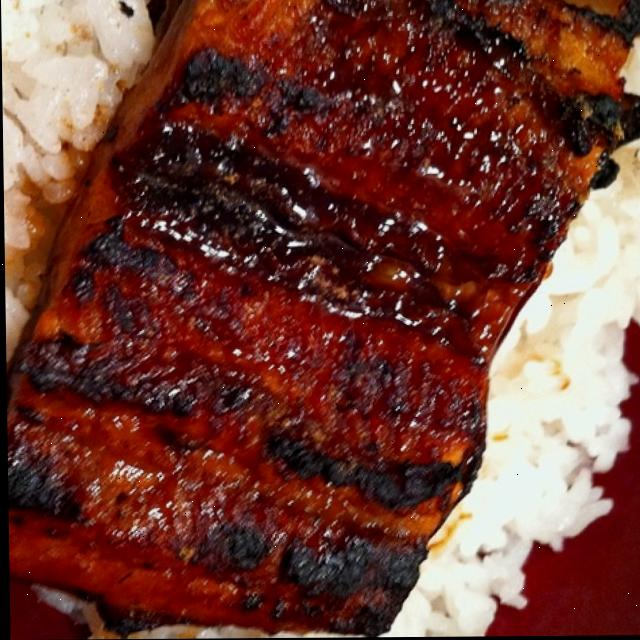汤锅炖物: (429, 197, 625, 440)
熟制海鲜: (330, 390, 536, 564)
米饭主食: (120, 0, 409, 308)
蔬菜料理: (174, 531, 357, 639)
